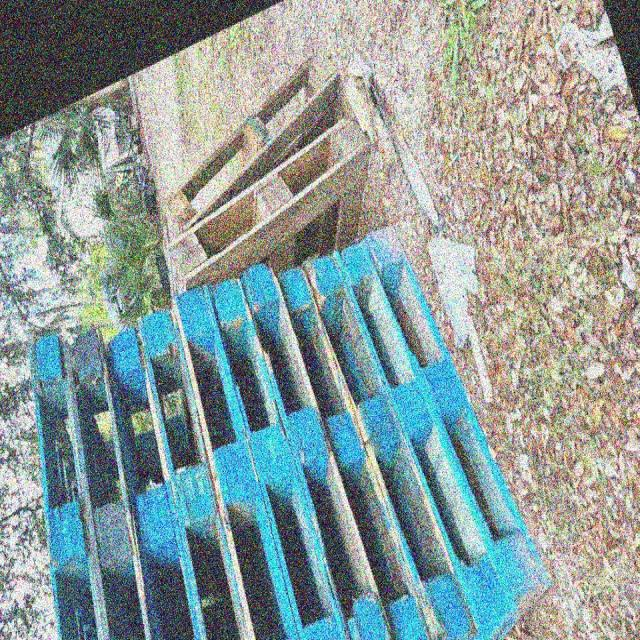non-igps: (354, 220, 562, 627), (330, 232, 527, 640), (295, 245, 485, 640), (265, 257, 446, 640), (235, 255, 403, 640), (199, 271, 358, 640), (168, 267, 307, 640), (160, 109, 389, 309), (154, 38, 351, 259), (126, 297, 252, 640), (96, 318, 207, 640), (58, 308, 158, 640), (21, 318, 107, 640)
